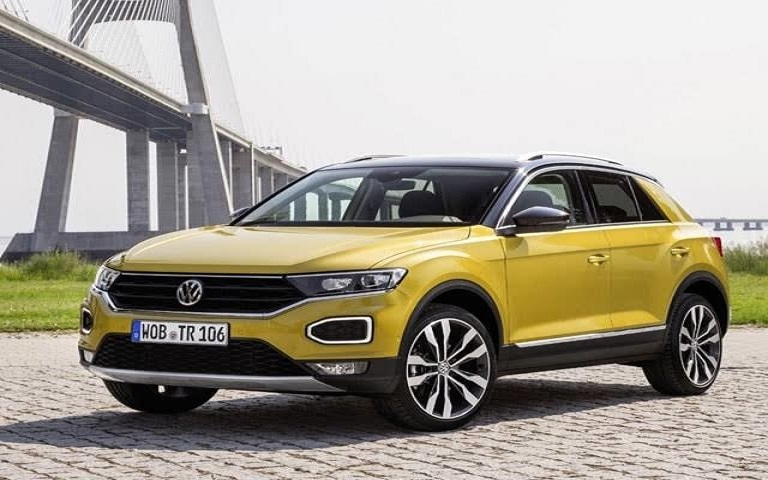car: (76, 148, 735, 427)
